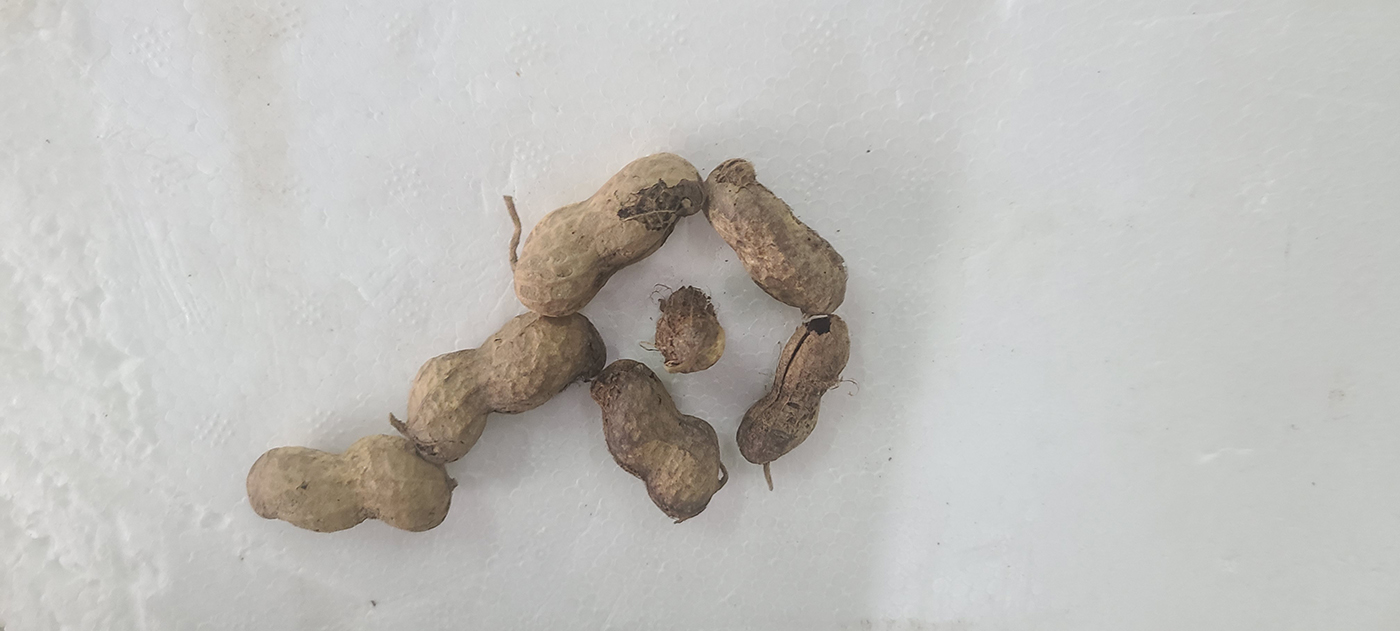l: (513, 152, 704, 316), (406, 309, 603, 463), (704, 160, 847, 312), (591, 358, 724, 521), (244, 434, 454, 534), (736, 314, 852, 465), (654, 286, 724, 374)
